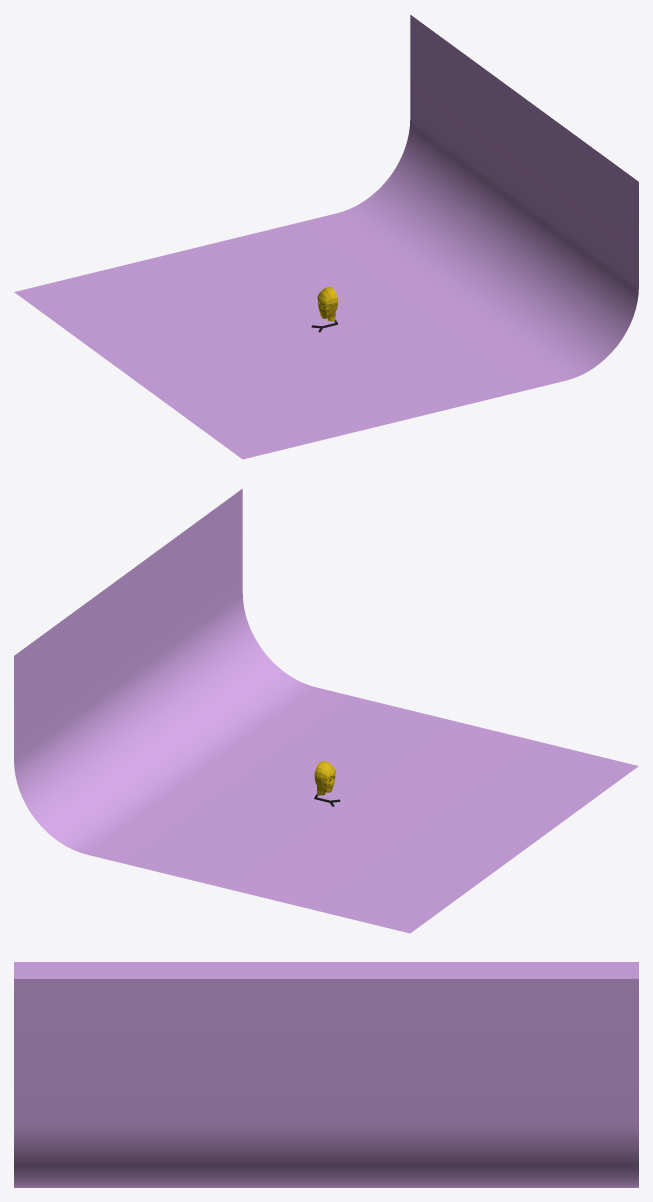
3 views of the same model, one above another, from view 1: azimuth 30°, elevation 25°; view 2: azimuth 150°, elevation 25°; view 3: azimuth 270°, elevation 25° (orthographic). The views are drawn at different scales.
Visible parts, largest first — view 1: Plane, C3PO_Final.002; view 2: Plane, C3PO_Final.002; view 3: Plane.
Part boxes in pixels (x1,y1,x2,y2): Plane: [14, 15, 638, 459]; C3PO_Final.002: [311, 287, 337, 332]; Plane: [14, 489, 638, 933]; C3PO_Final.002: [314, 761, 340, 806]; Plane: [14, 962, 638, 1187].
Size of the model in its own units: 396 by 173 by 396.
3 materials, 2 textured.
